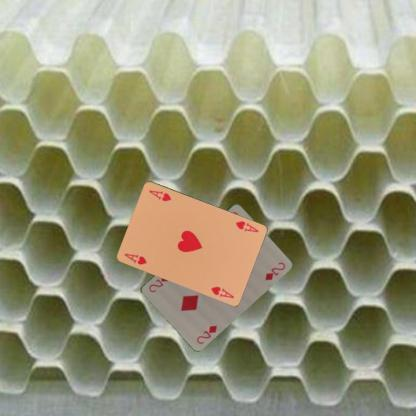2d: (194, 322, 219, 345)
Ah: (121, 251, 148, 266), (233, 218, 260, 233)
